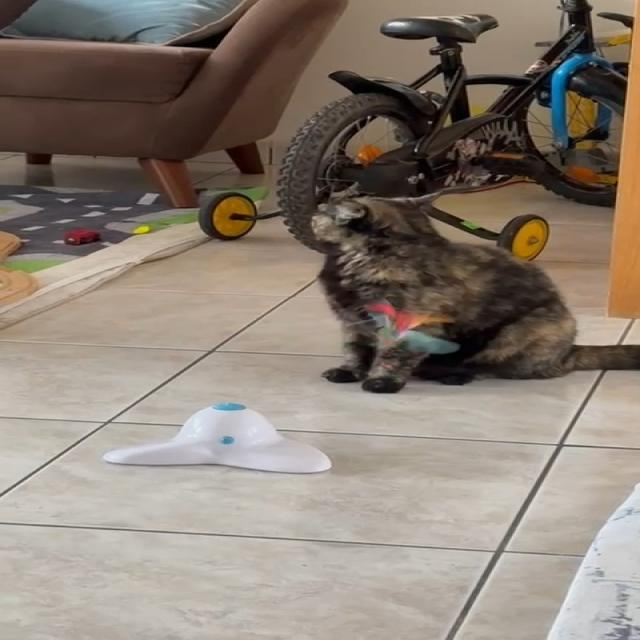authorized: (308, 185, 639, 393)
